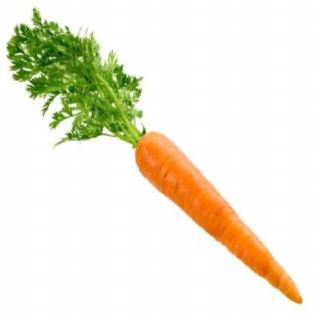carrot: (129, 128, 305, 304)
